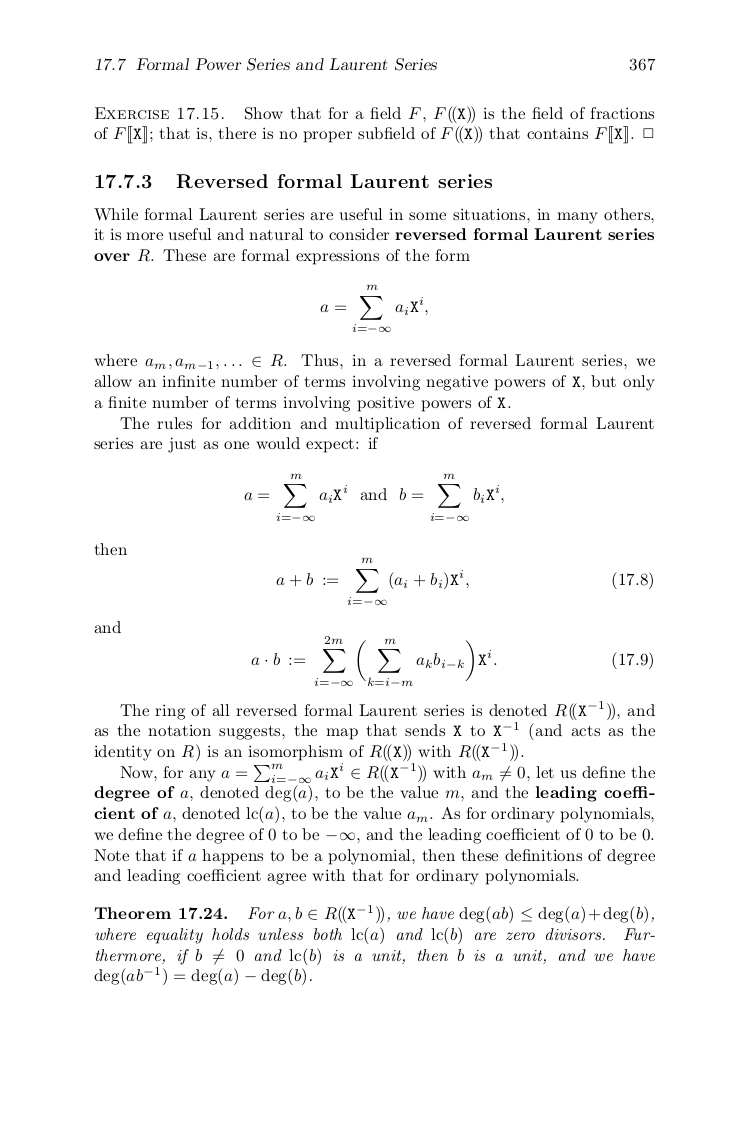formula: (251, 636, 652, 686), (276, 557, 652, 605), (244, 473, 503, 521), (320, 284, 427, 332)
